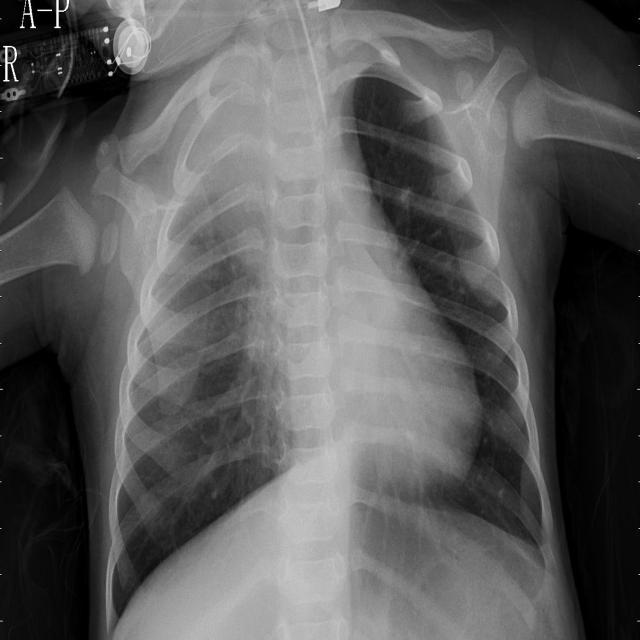high-pneumonia: (192, 86, 271, 266)
